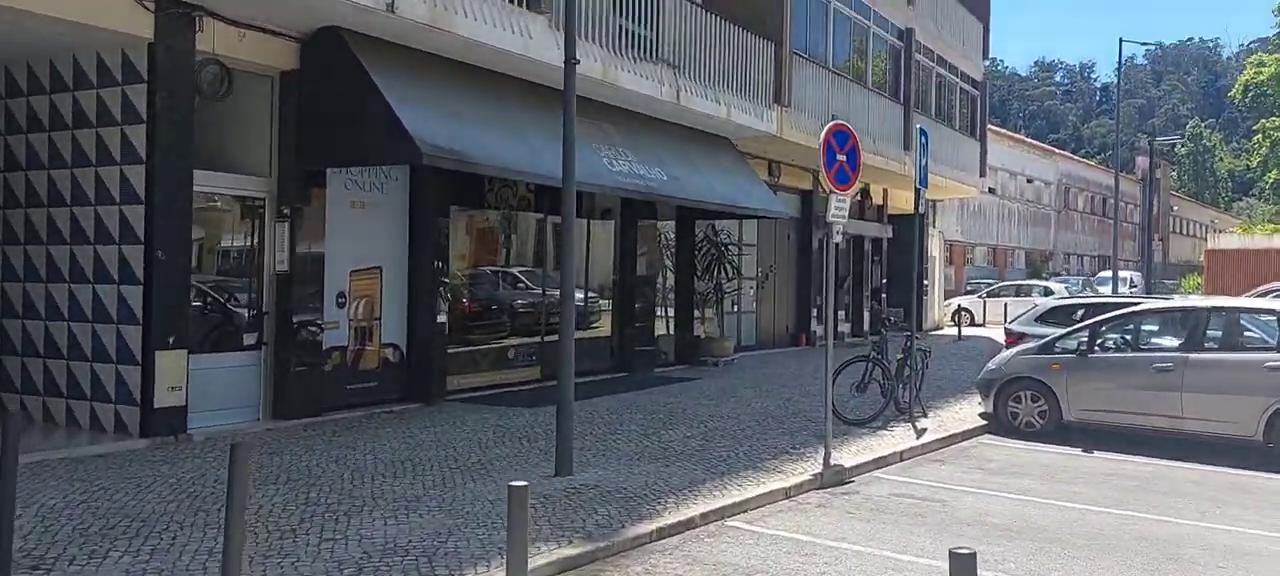paragem e estacionamento proibido: (815, 120, 868, 196)
